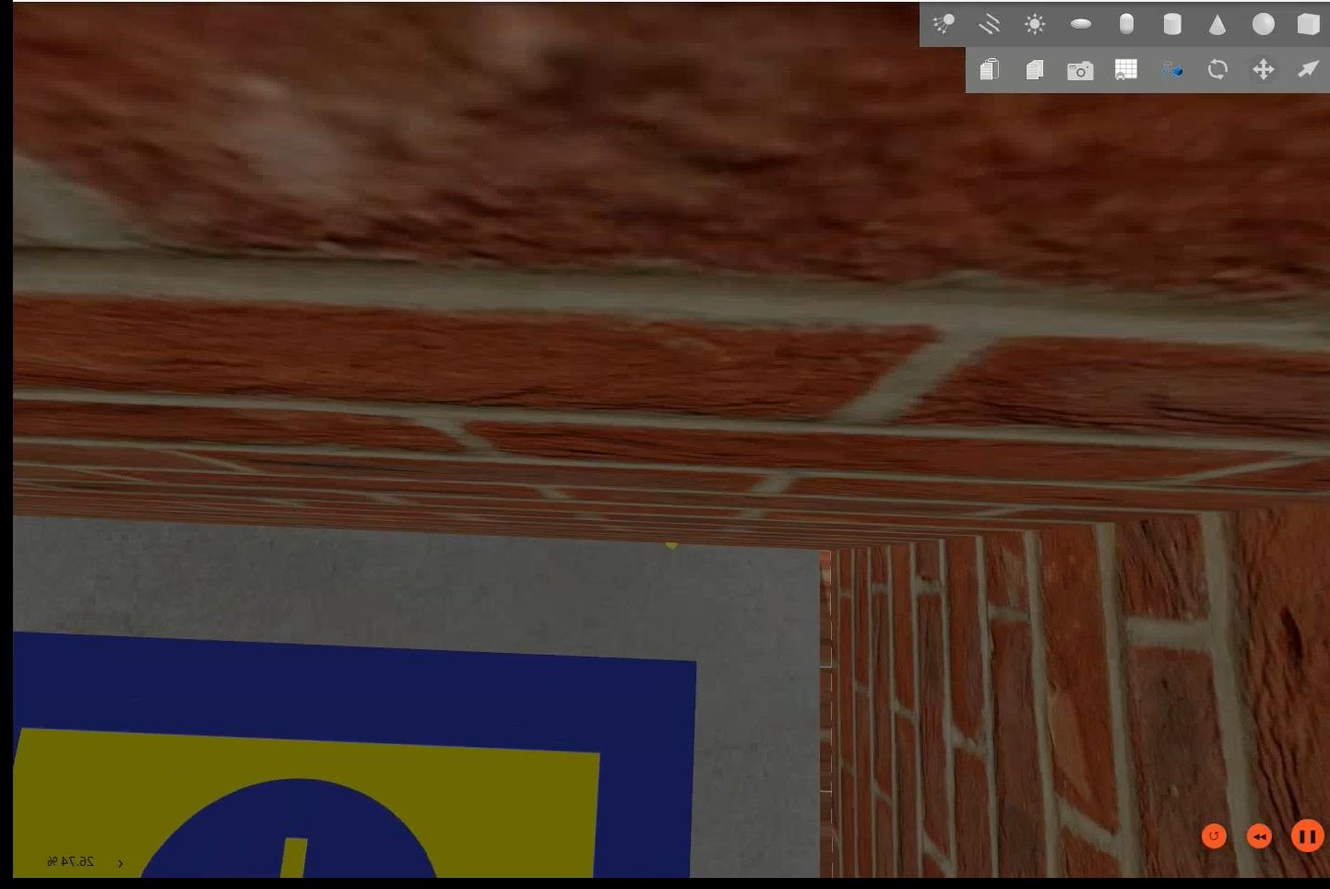large_base: (12, 631, 695, 880)
